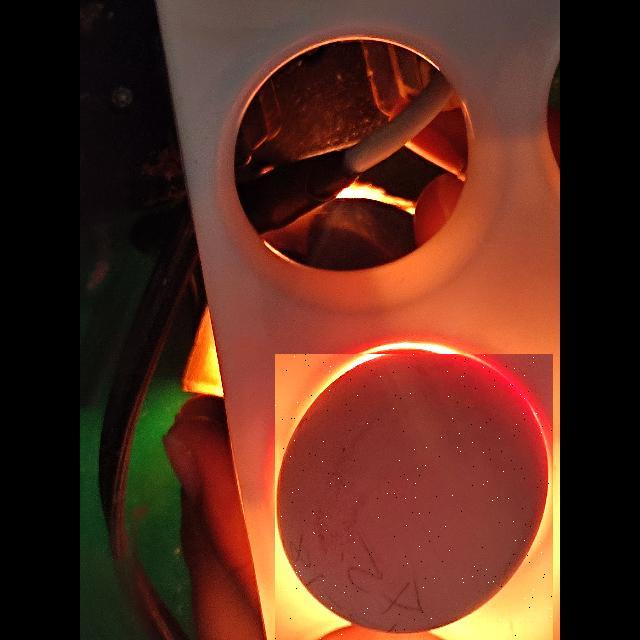Fertile: (275, 354, 553, 640)
